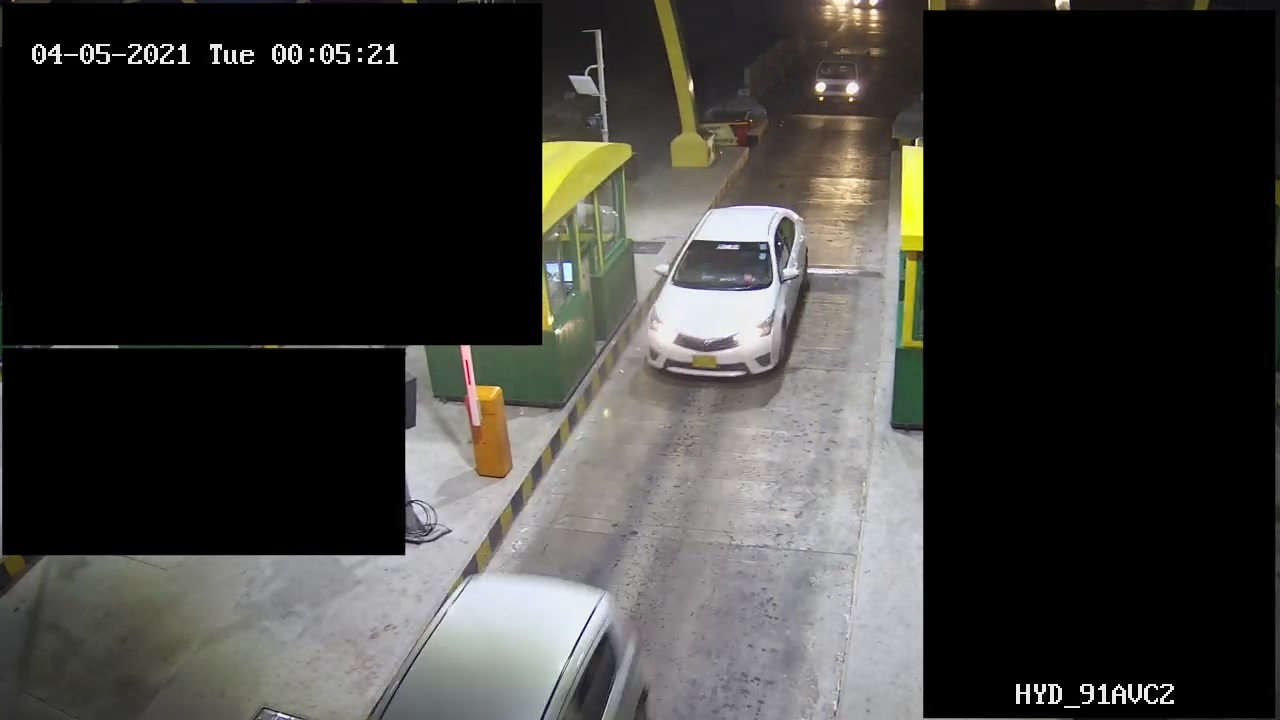F1: (630, 203, 817, 392)
